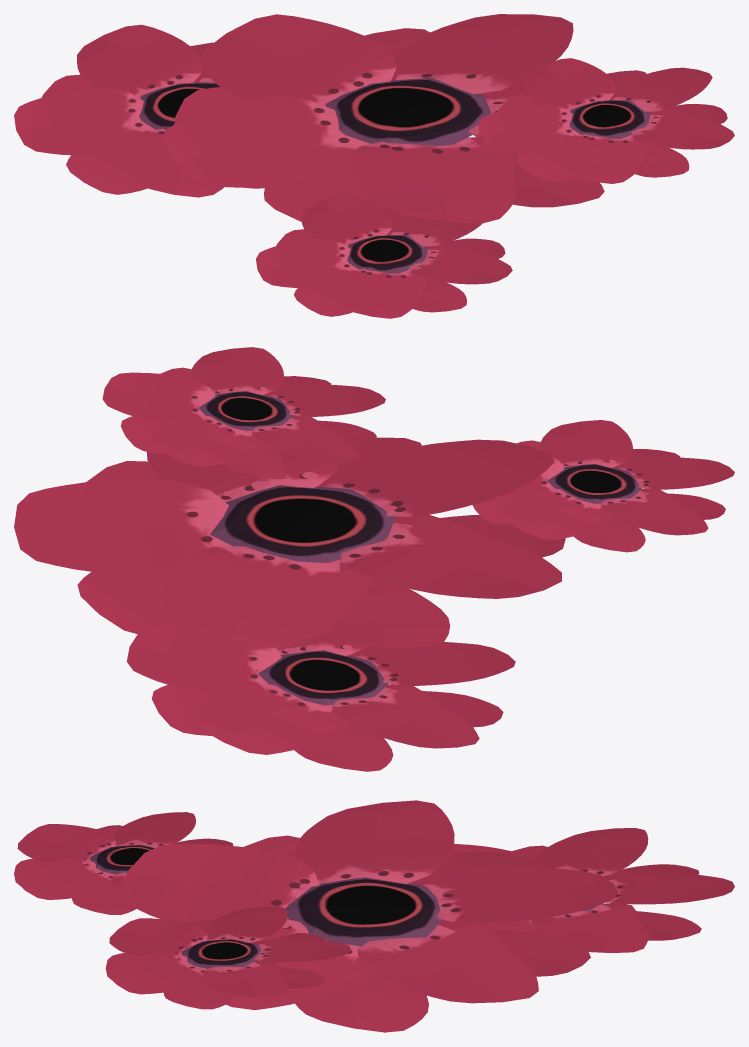
Rendered from Flower.fbx.
3 views of the same model, one above another, from view 1: azimuth 30°, elevation 25°; view 2: azimuth 150°, elevation 25°; view 3: azimuth 270°, elevation 25° (orthographic). The views are drawn at different scales.
Parts seen in each view (by area): view 1: Plane, Plane.003, Plane.001, Plane.002, Cube, Cube.003, Cube.002, Cube.001; view 2: Plane, Plane.001, Plane.003, Plane.002, Cube, Cube.001, Cube.003, Cube.002; view 3: Plane, Plane.003, Plane.001, Plane.002, Cube, Cube.003, Cube.002.
Boxes of the visible parts, box(x1,y1,x2,y2) form: Plane: box(163, 14, 604, 223); Plane.003: box(478, 58, 734, 183); Plane.001: box(14, 24, 264, 197); Plane.002: box(256, 193, 512, 318); Cube: box(325, 77, 490, 145); Cube.003: box(569, 100, 650, 138); Cube.002: box(347, 234, 428, 273); Cube.001: box(139, 82, 219, 129); Plane: box(14, 415, 565, 648); Plane.001: box(126, 625, 515, 771); Plane.003: box(102, 347, 385, 479); Plane.002: box(472, 420, 734, 552); Cube: box(210, 485, 395, 563); Cube.001: box(258, 650, 388, 705); Cube.003: box(198, 391, 293, 431); Cube.002: box(547, 463, 642, 503); Plane: box(119, 800, 618, 1032); Plane.003: box(105, 906, 350, 1009); Plane.001: box(440, 828, 734, 953); Plane.002: box(14, 812, 233, 914); Cube: box(285, 877, 442, 946); Cube.003: box(181, 939, 260, 968); Cube.002: box(89, 844, 154, 874).
Bounding box in the file's own units: 3.69 × 0.6627 × 4.66.
1 material, 1 textured.
